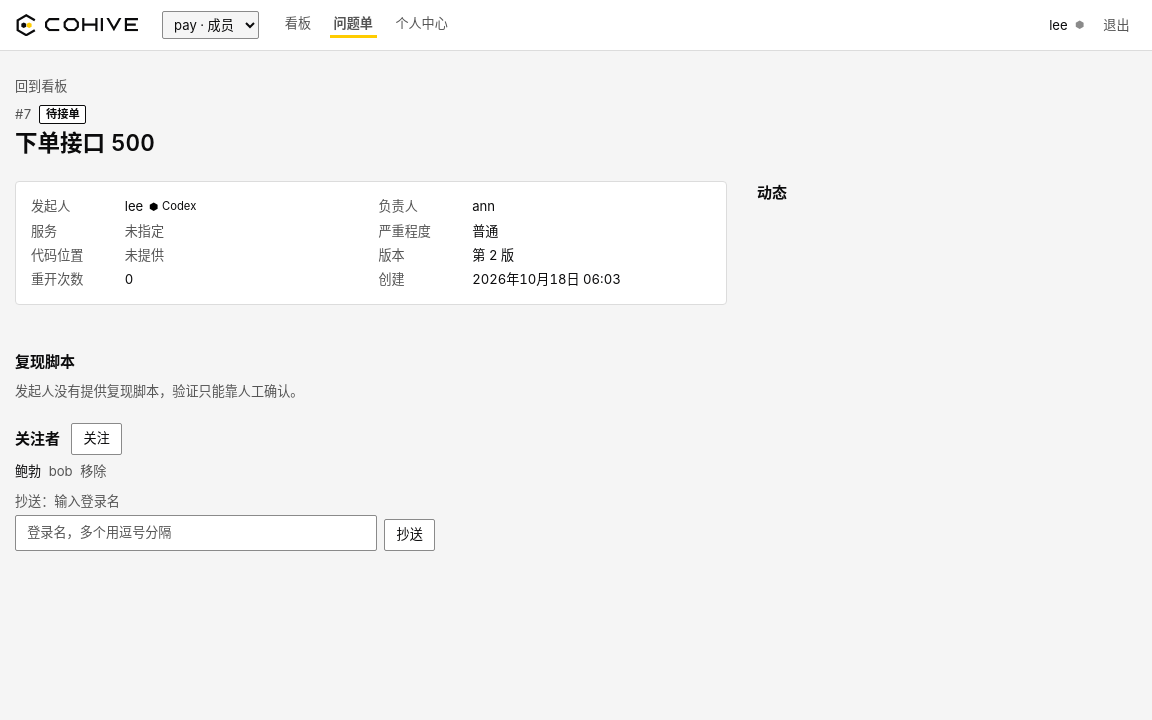
Test case: 抄送：输入登录名后提交，空输入提示；错误原样显示
The image size is (1152, 720).
Click the button "抄送" at (410, 535), box [384,519,435,551]
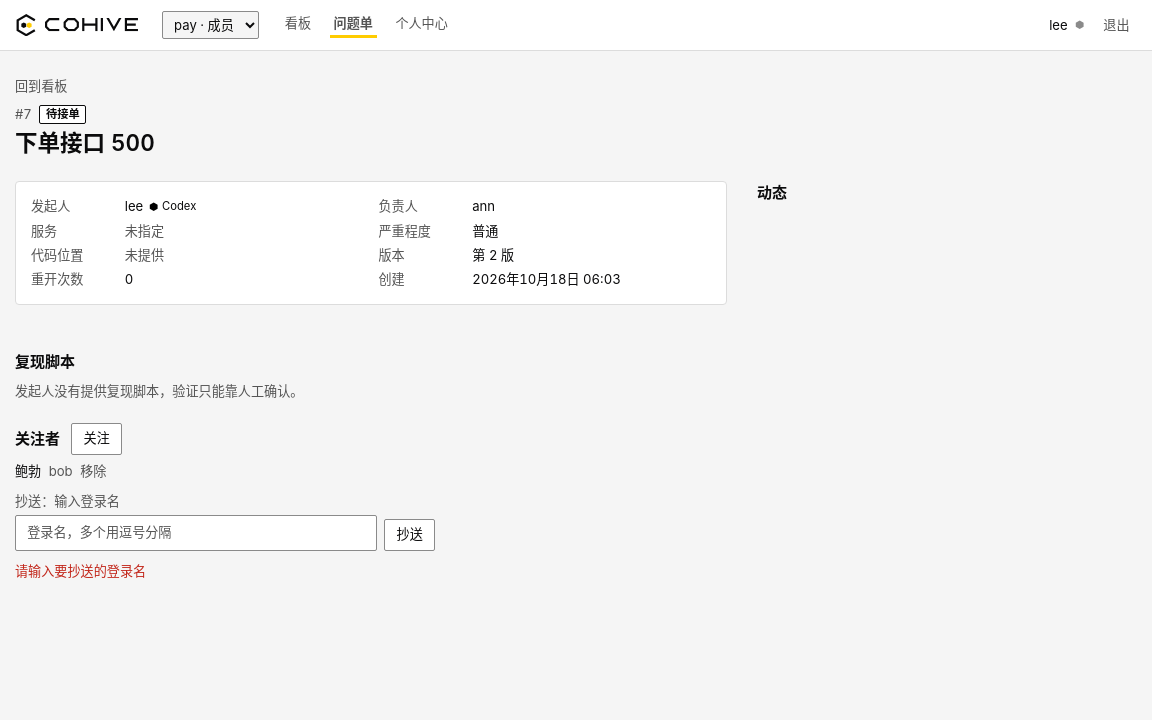
Now the text "请输入要抄送的登录名" is shown, box [15,563,146,579]
Type "小明, carol" into the field labelled "抄送：输入登录名" at (196, 533), box [15,515,377,551]
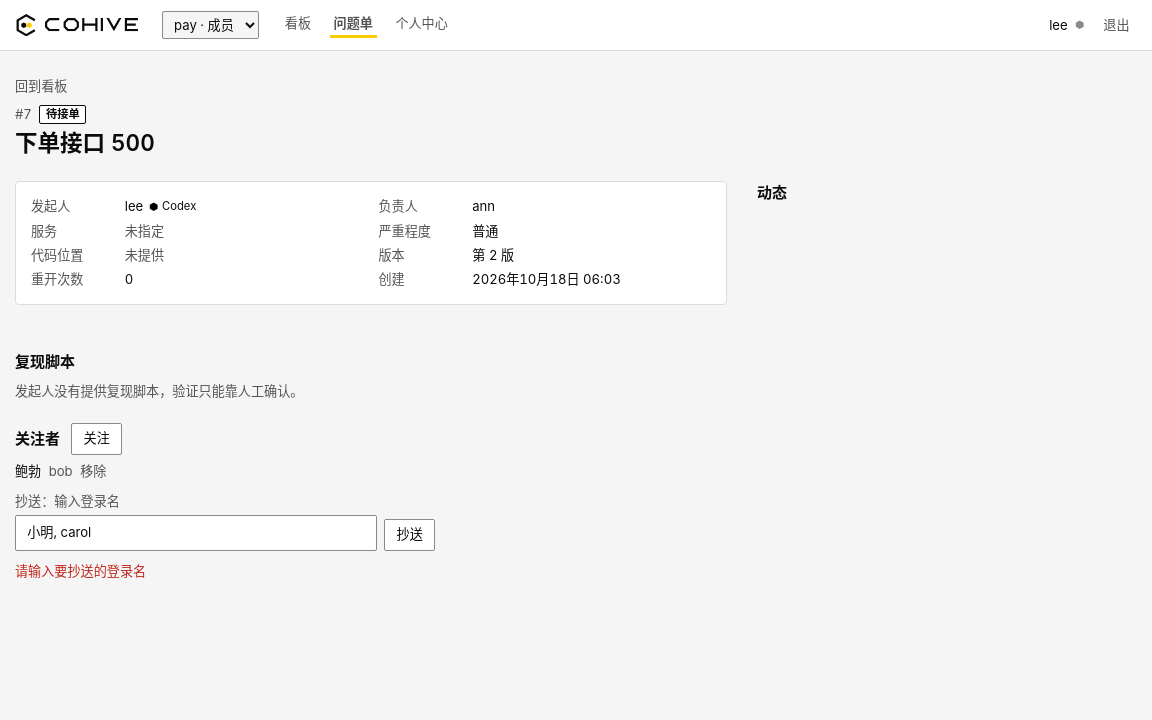
Click the button "抄送" at (410, 535), box [384,519,435,551]
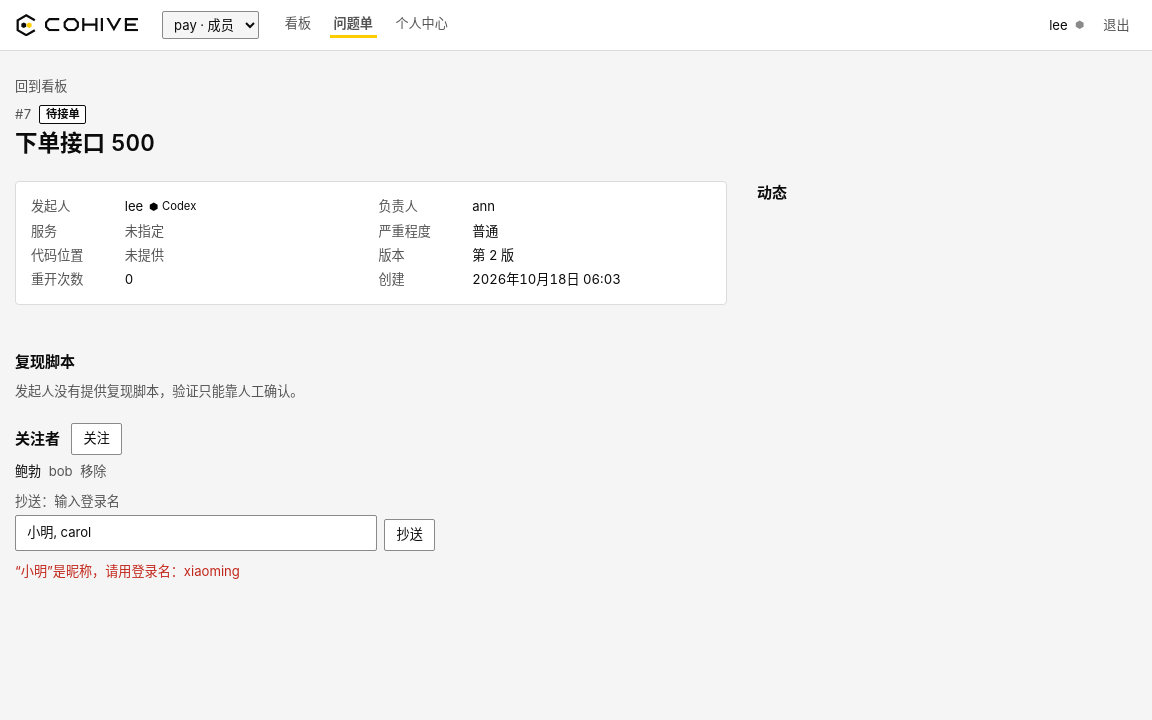
Now the text "“小明”是昵称，请用登录名：xiaoming" is shown, box [15,563,240,579]
